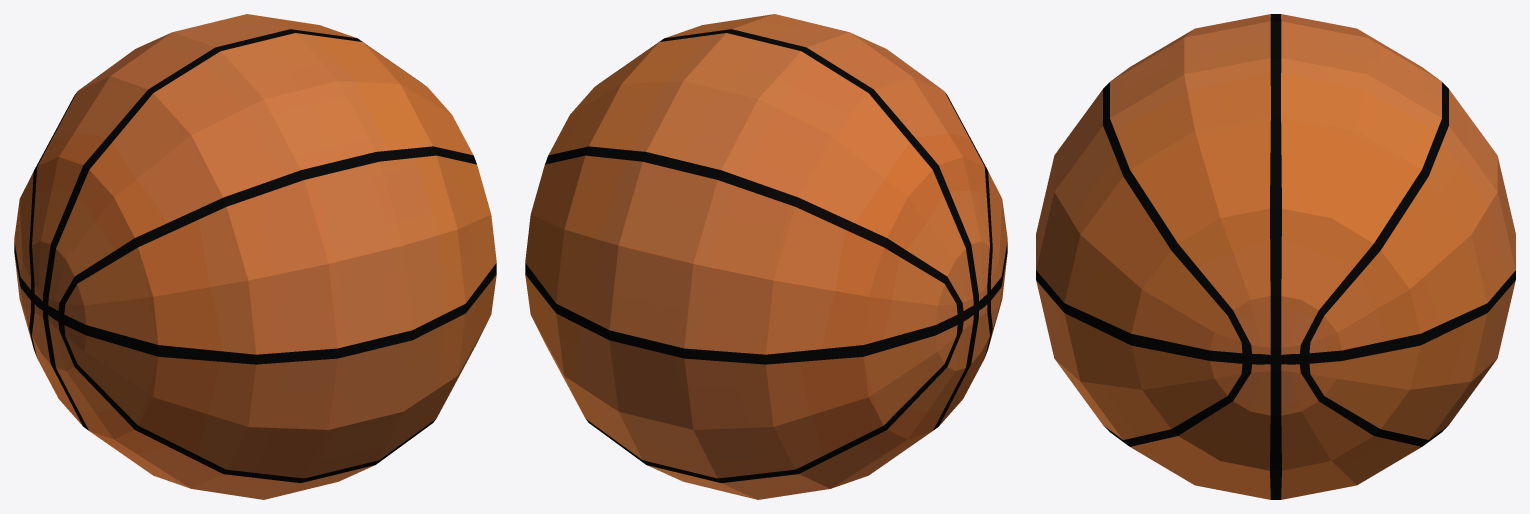
Rendered from basketball.gltf.
The picture shows the model from 3 angles, left to right: view 1: azimuth 30°, elevation 25°; view 2: azimuth 150°, elevation 25°; view 3: azimuth 270°, elevation 25°; orthographic projection.
Parts seen in each view (by area): view 1: node-0; view 2: node-0; view 3: node-0.
Boxes of the visible parts, left/top/right/bottom form: node-0: left=14, top=14, right=496, bottom=499; node-0: left=525, top=14, right=1007, bottom=499; node-0: left=1036, top=14, right=1515, bottom=499.
Size of the model in its own units: 1.11 by 1.09 by 1.09.
